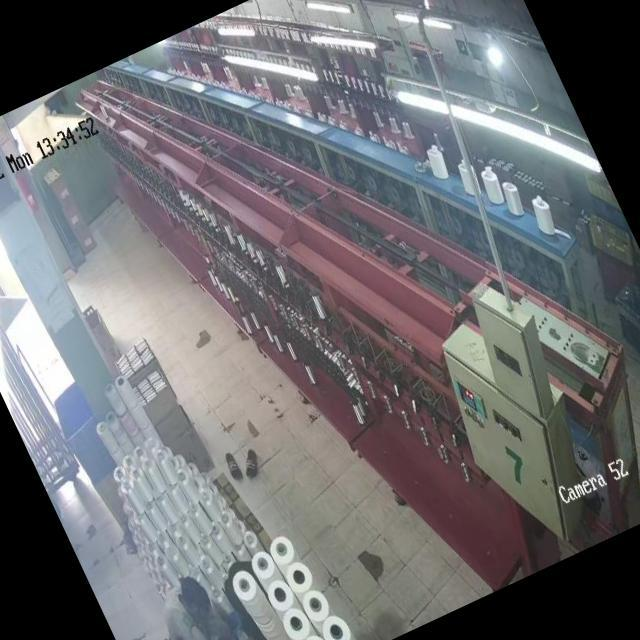person: (155, 572, 235, 640), (208, 610, 282, 640)
